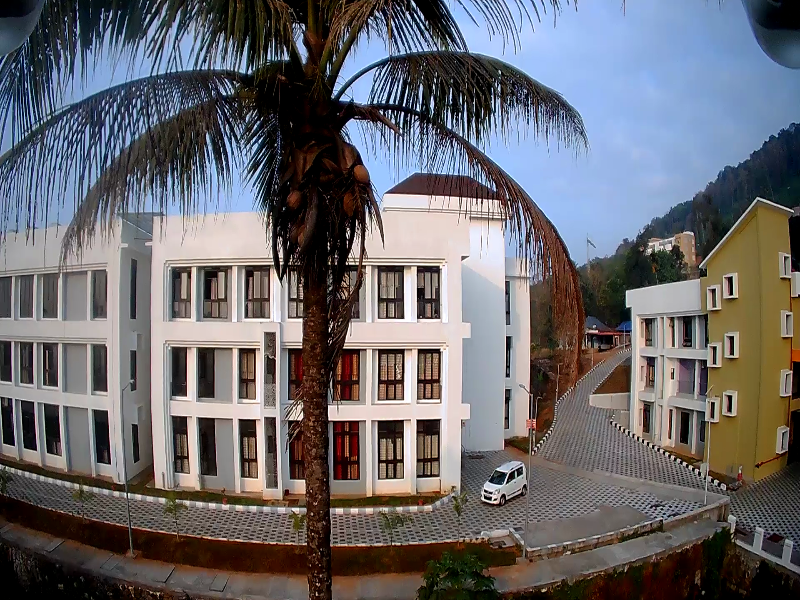coconut: (342, 192, 360, 214), (283, 190, 301, 209), (355, 159, 368, 184)
